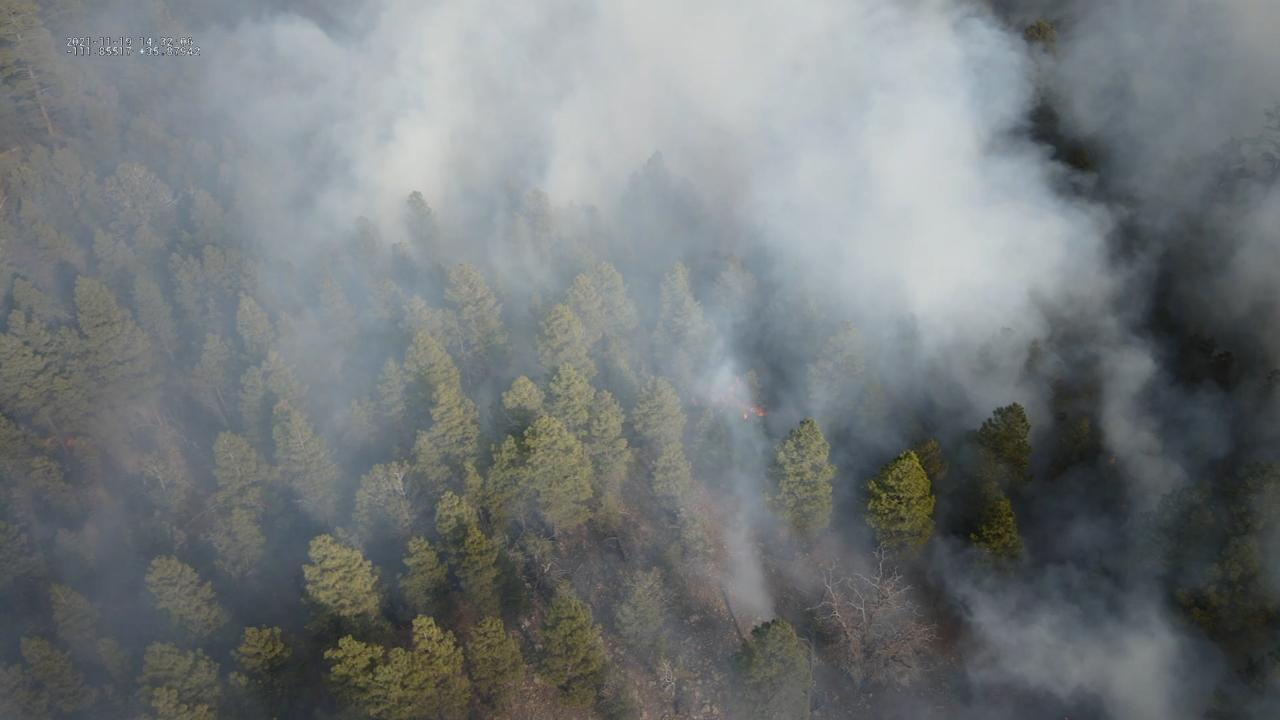fire: (750, 402, 766, 417), (64, 437, 79, 450), (1106, 454, 1119, 467), (742, 413, 749, 421)
smoke: (0, 0, 1280, 720)
